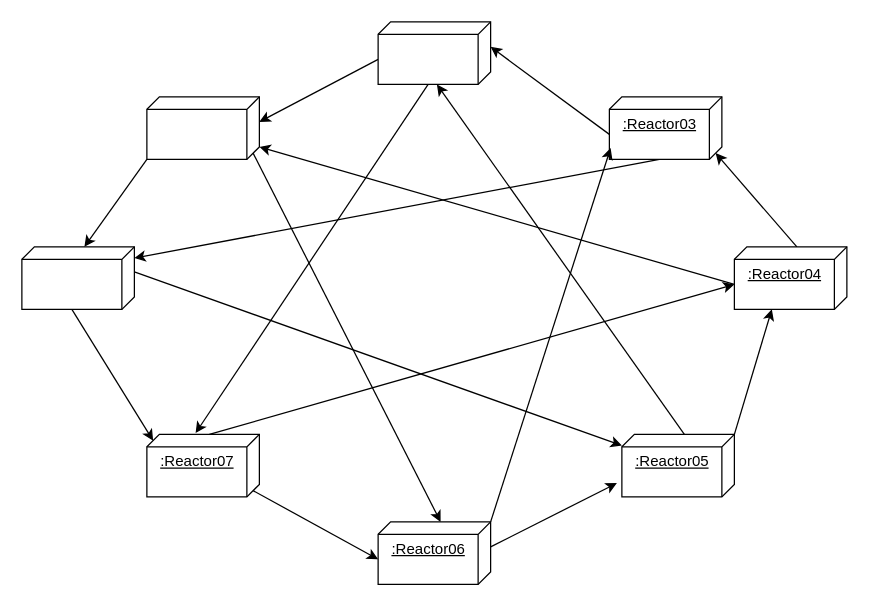
The diagram is 869 pixels wide and 606 high, and some of its shapes have lost their labels. Here are the shapes that lost their labels. From the top down, the box of each, then its label:
(377, 21, 491, 84): :Reactor02
(146, 96, 259, 159): :Reactor01
(21, 246, 134, 309): :Reactor08
